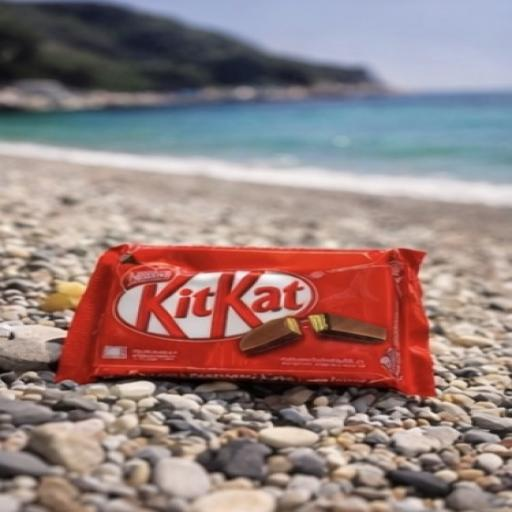kitkat: (45, 204, 489, 448)
